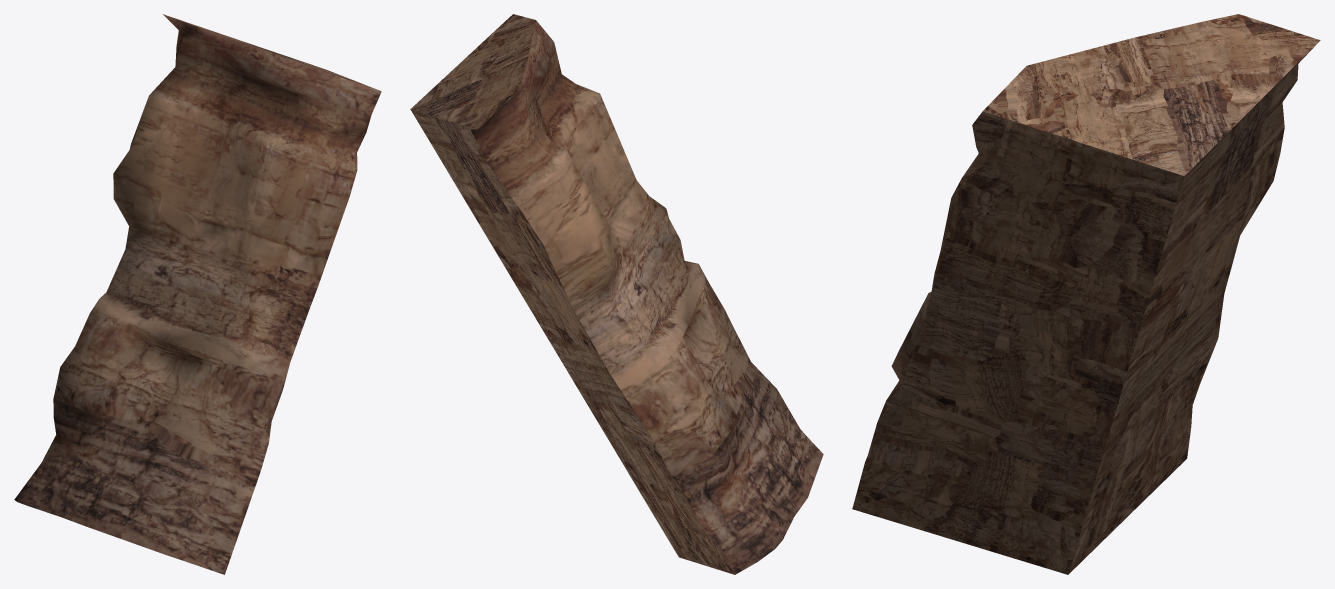
The model's file is Mesh_Cliff_Corner_02_AU.fbx.
3 views of the same model, side by side, from view 1: azimuth 30°, elevation 25°; view 2: azimuth 150°, elevation 25°; view 3: azimuth 270°, elevation 25° (orthographic). The views are drawn at different scales.
Parts seen in each view (by area): view 1: Mesh_Cliff_Corner_02_AU; view 2: Mesh_Cliff_Corner_02_AU; view 3: Mesh_Cliff_Corner_02_AU.
Boxes of the visible parts, left/top/right/bottom form: Mesh_Cliff_Corner_02_AU: left=14, top=14, right=381, bottom=574; Mesh_Cliff_Corner_02_AU: left=410, top=14, right=823, bottom=574; Mesh_Cliff_Corner_02_AU: left=852, top=14, right=1320, bottom=574.
Bounding box in the file's own units: 6135 × 8319 × 5729.
